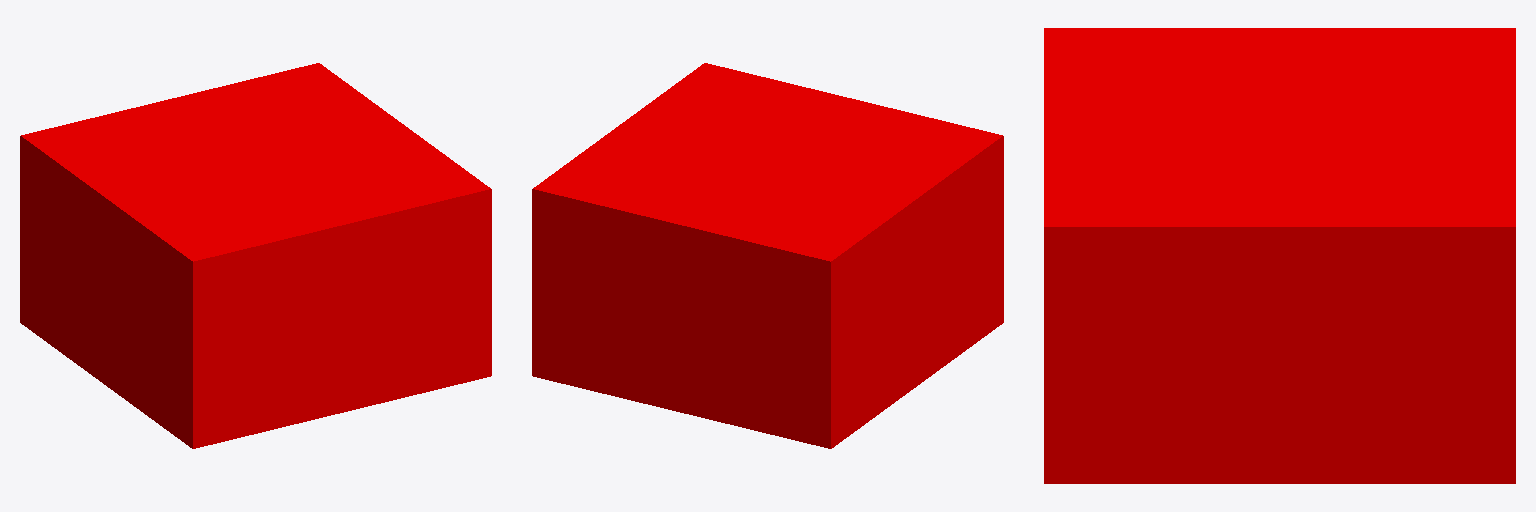
The robot description file, URDF, robot "food_item":
<robot name="food_item">
  <link name="food_item">
    <collision>
      <origin xyz="0.0125 0.0125 0.0" />
      <geometry>
        <box size="0.025 0.025 0.015" />
      </geometry>
    </collision>
    <visual>
      <origin xyz="0.0125 0.0125 0.0" />
      <material name="c">
        <color rgba="1.0 0 0 1.0" />
      </material>
      <geometry>
        <box size="0.025 0.025 0.015" />
      </geometry>
    </visual>
  </link>
</robot>

--- What the picture shows (computed from the rendered views, not written in the file) ---
The picture shows the robot from 3 angles, left to right: view 1: azimuth 30°, elevation 25°; view 2: azimuth 150°, elevation 25°; view 3: azimuth 270°, elevation 25°; orthographic projection.
Robot: food_item — 1 links, 0 joints (none); root link food_item; default pose: every joint at zero.
Visible links, largest first — view 1: food_item; view 2: food_item; view 3: food_item.
Link boxes in pixels (x1,y1,x2,y2): food_item: (20,63,491,448); food_item: (532,63,1003,448); food_item: (1044,28,1515,483).
Size in the robot's own frame: 0.025 by 0.025 by 0.015 metres.
Geometry: primitives only (box / cylinder / sphere), no mesh files.